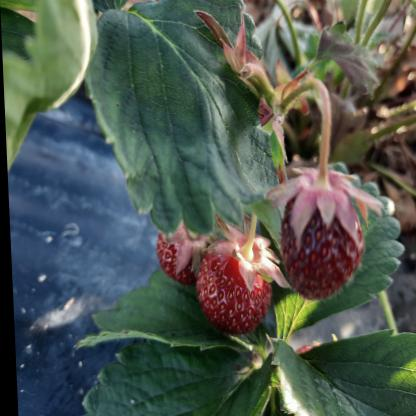ripe: (272, 180, 368, 296), (190, 237, 271, 328), (149, 219, 208, 277)
